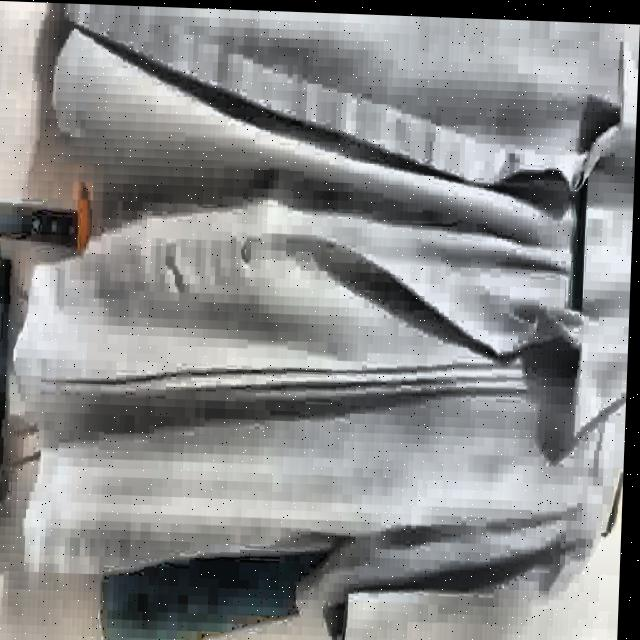clothes: (5, 6, 640, 640)
